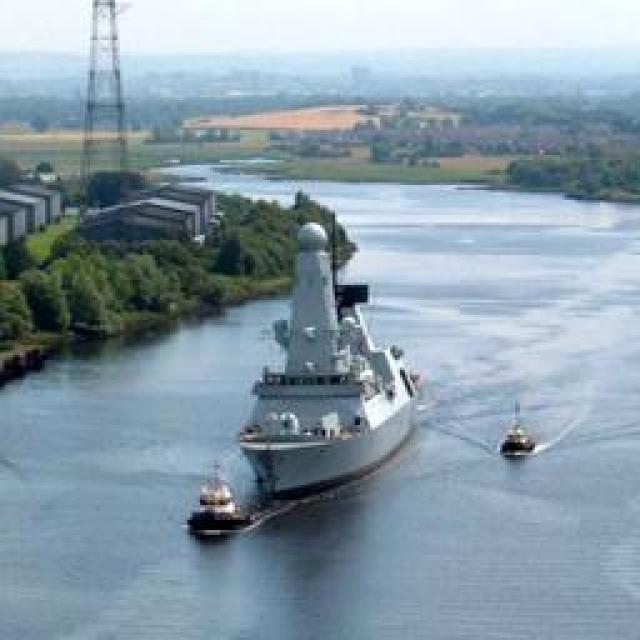CIV_Ship: (230, 214, 428, 496)
